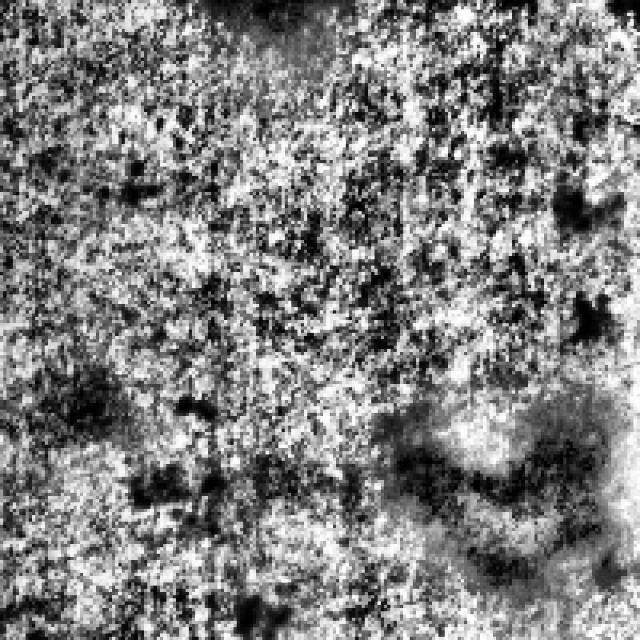Scratches: (380, 400, 612, 595)
